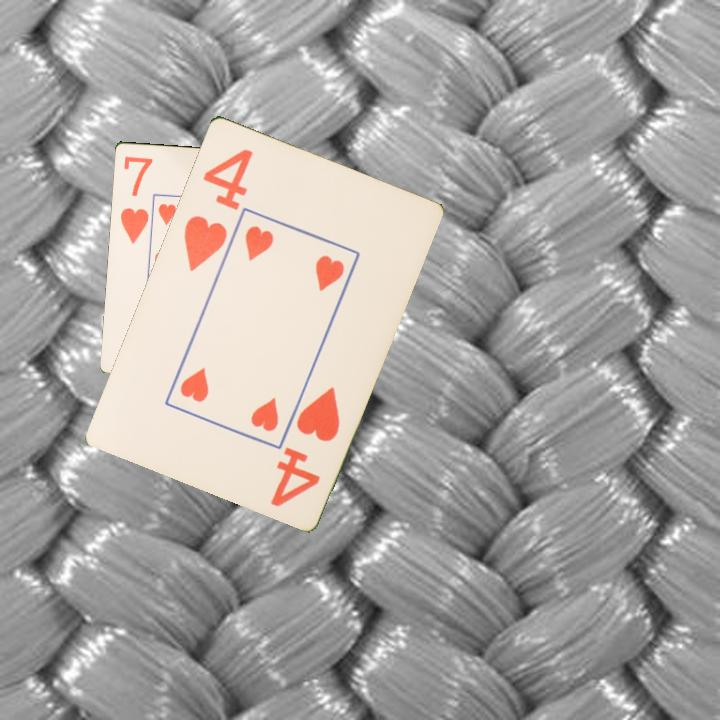4h: (180, 144, 256, 274), (266, 382, 343, 509)
7h: (117, 153, 155, 247)
